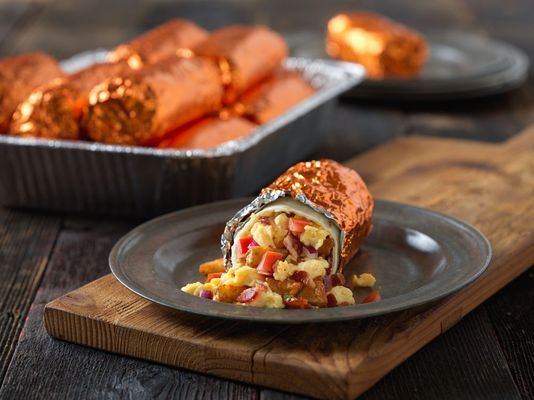curry: (3, 7, 533, 394)
salad: (324, 10, 432, 80), (0, 50, 66, 136)
